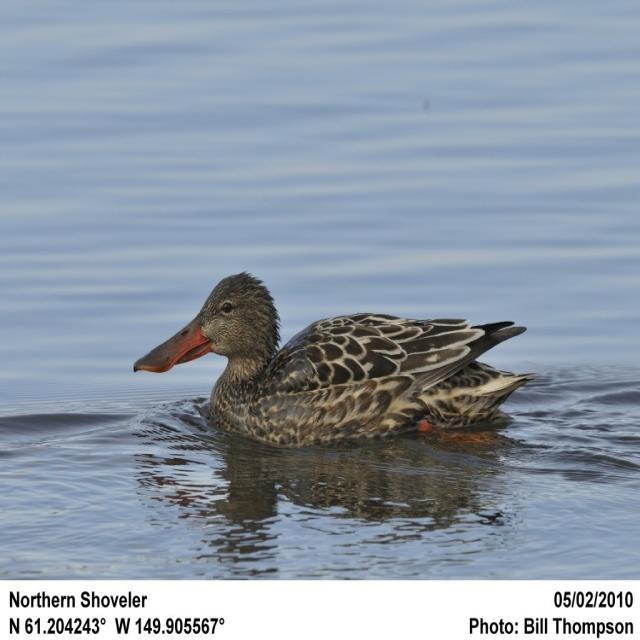bird: (132, 271, 534, 455)
